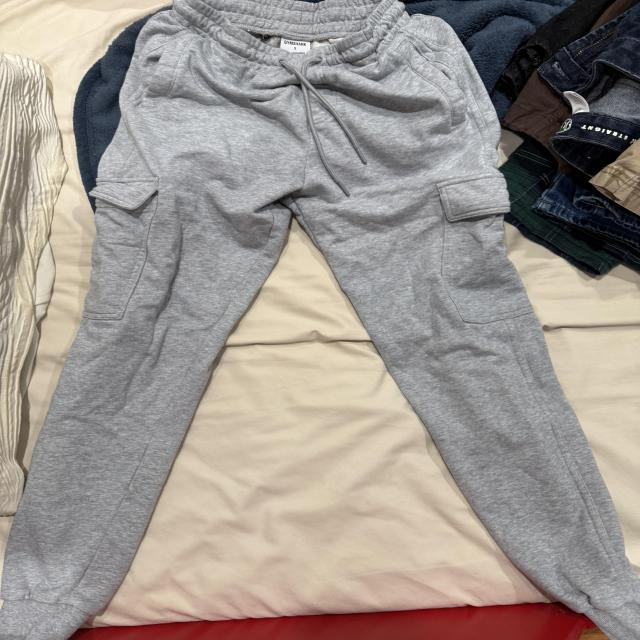back_tag: (270, 33, 322, 59)
